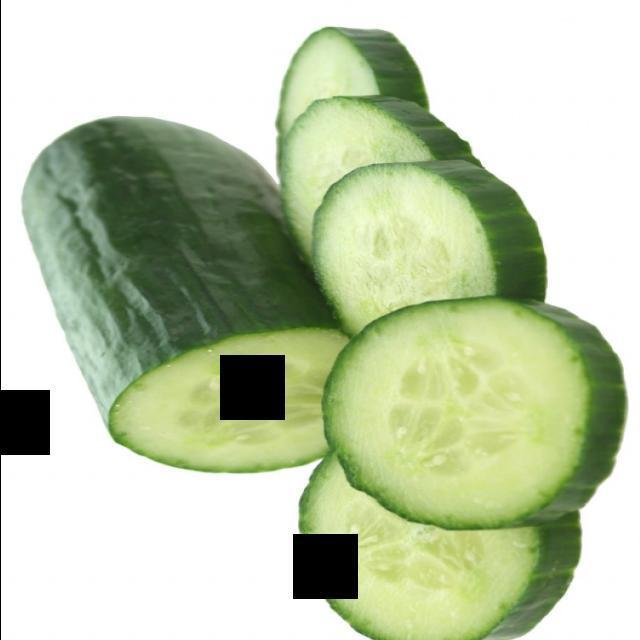cucumber: (0, 12, 634, 640), (26, 103, 420, 497), (289, 278, 640, 545), (269, 128, 558, 390), (273, 433, 634, 640), (193, 31, 494, 275)
